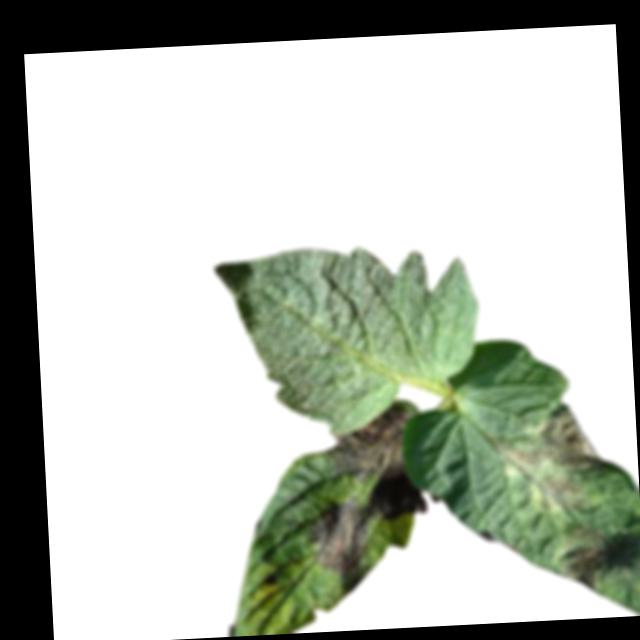Late_blight: (302, 476, 431, 579), (501, 403, 602, 470), (331, 408, 410, 483), (557, 534, 606, 595), (528, 464, 588, 513)
healthy: (212, 239, 485, 440)
